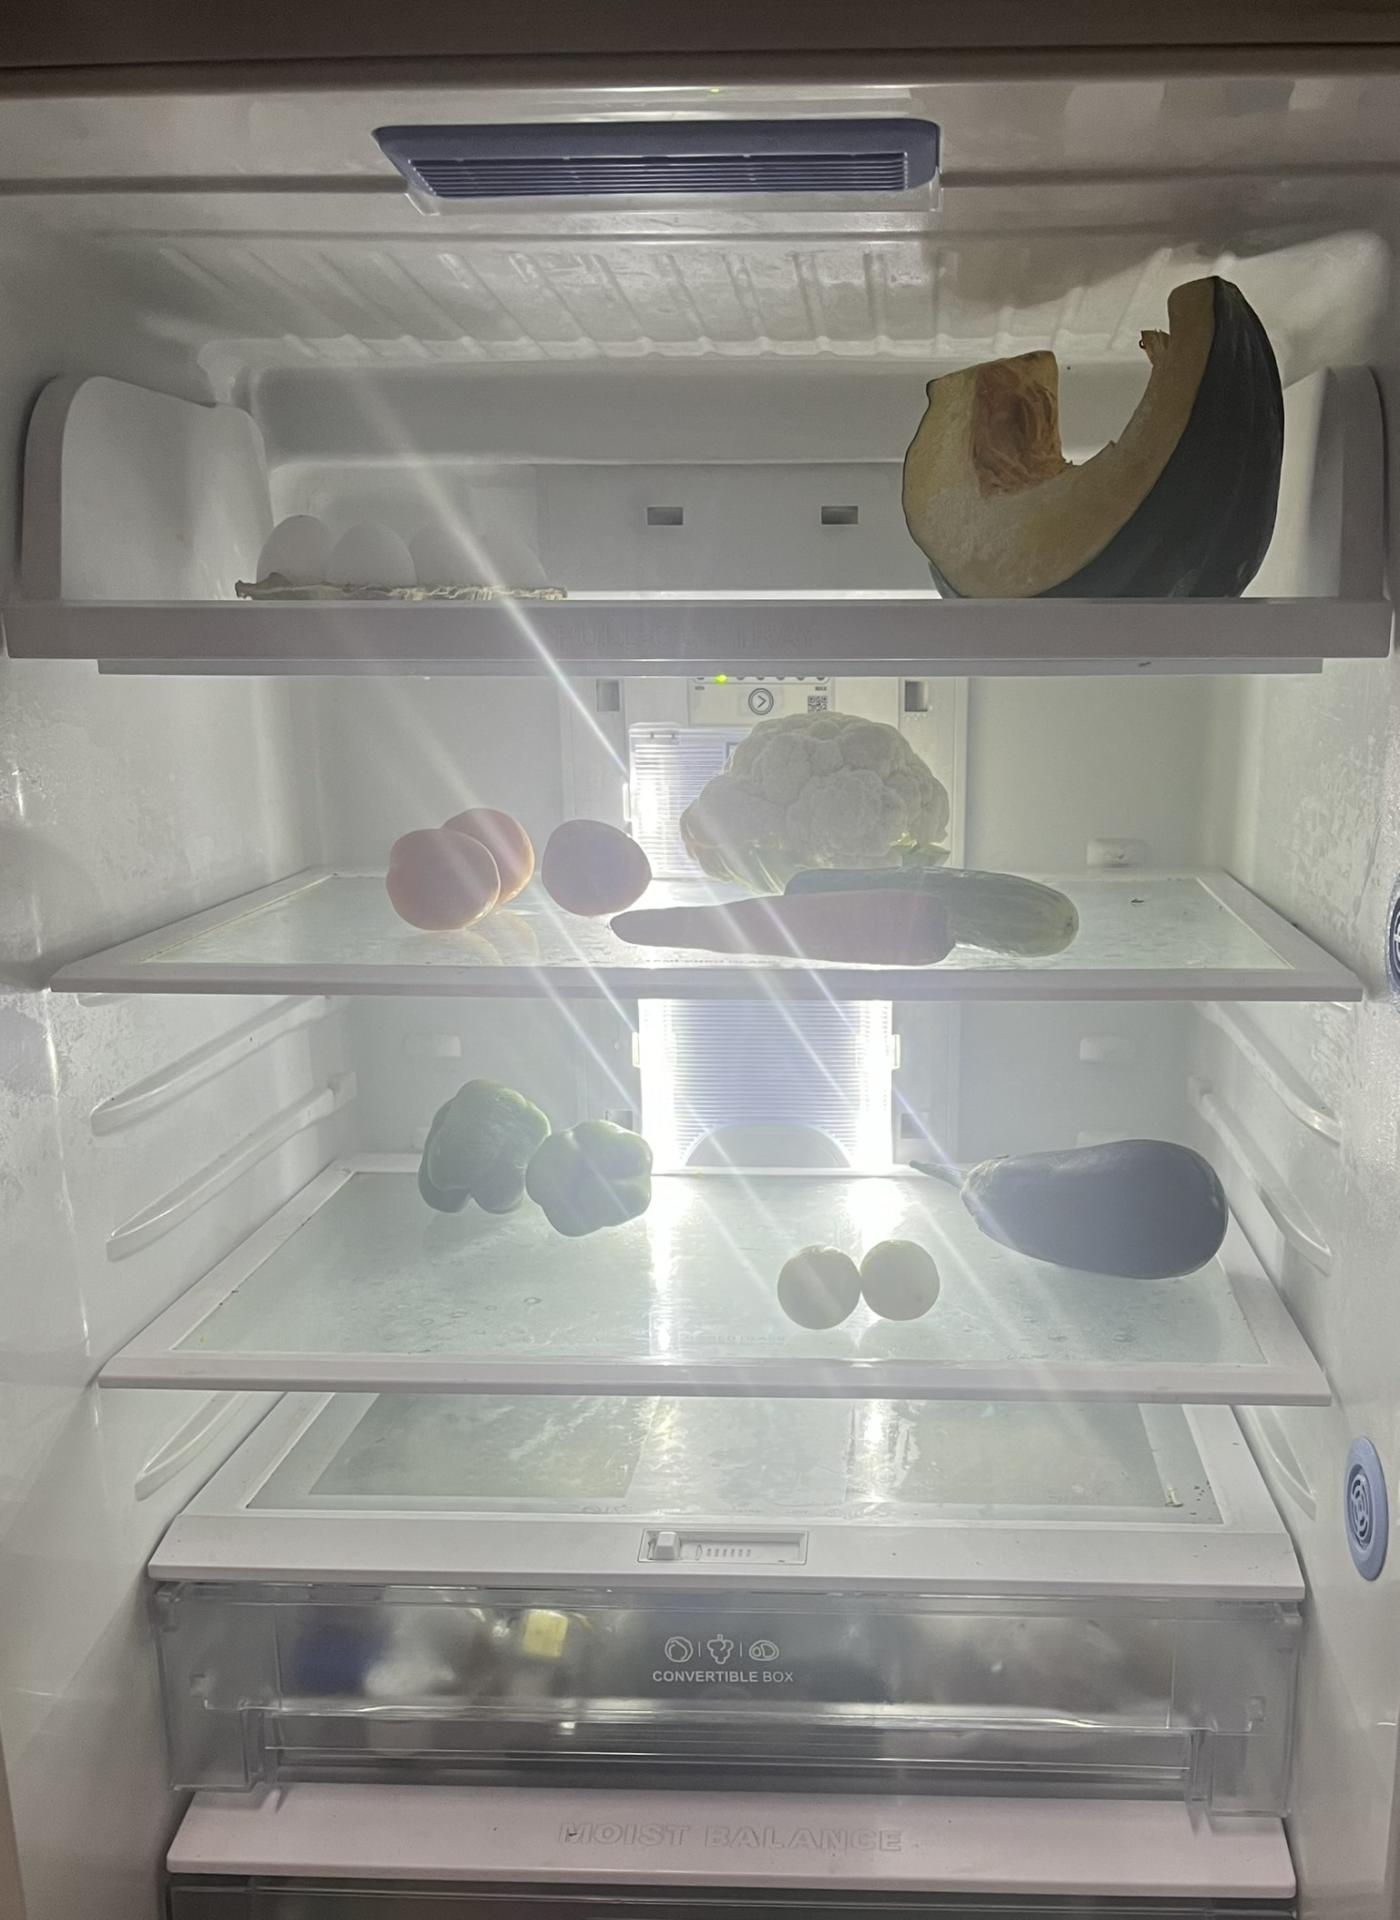brinjal: (935, 1133, 1242, 1283)
capsicum: (423, 1078, 674, 1245)
carrots: (620, 875, 978, 950)
cauliflower: (687, 719, 972, 884)
cucumber: (899, 859, 1090, 959)
egg: (252, 519, 547, 590)
lemon: (774, 1224, 945, 1339)
pumpkin: (901, 252, 1297, 598)
tomato: (385, 802, 546, 930), (541, 808, 658, 914)
